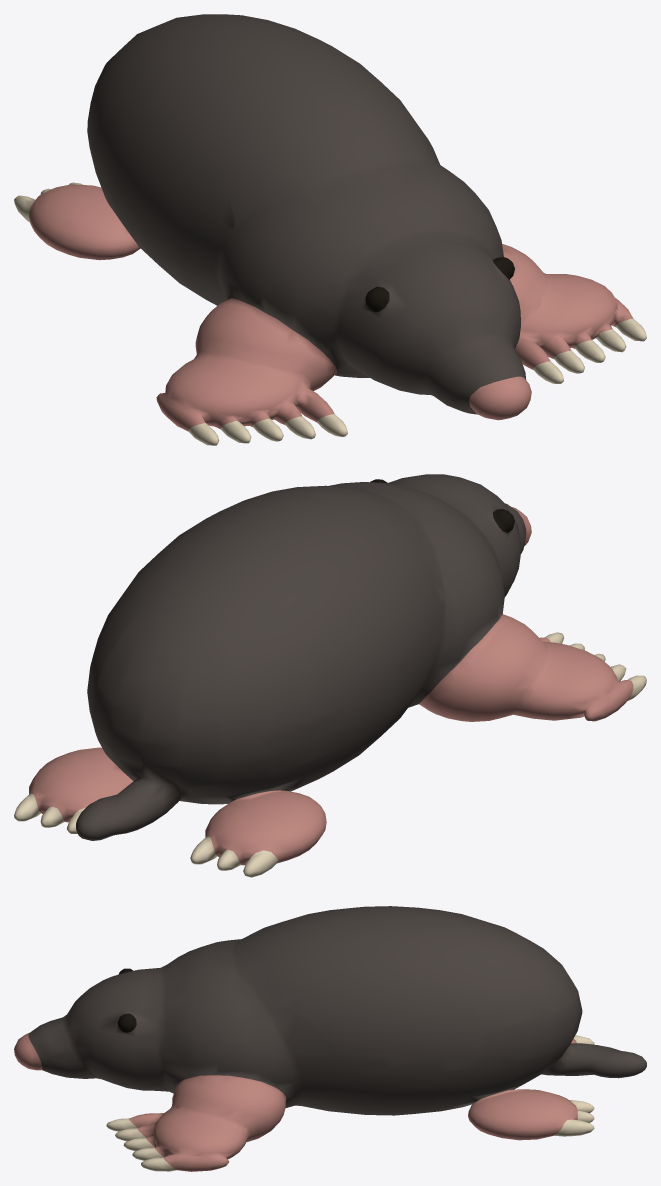
The model's file is NEW_RECOVERY_095_LOD2.glb.
3 views of the same model, one above another, from view 1: azimuth 30°, elevation 25°; view 2: azimuth 150°, elevation 25°; view 3: azimuth 270°, elevation 25° (orthographic). The views are drawn at different scales.
Visible parts, largest first — view 1: Mole_complete; view 2: Mole_complete; view 3: Mole_complete.
Boxes of the visible parts, x1,y1,x2,y2 form: Mole_complete: (14, 14, 646, 445); Mole_complete: (14, 474, 646, 877); Mole_complete: (14, 906, 646, 1171).
Size of the model in its own units: 2.04 by 1.08 by 3.29.
